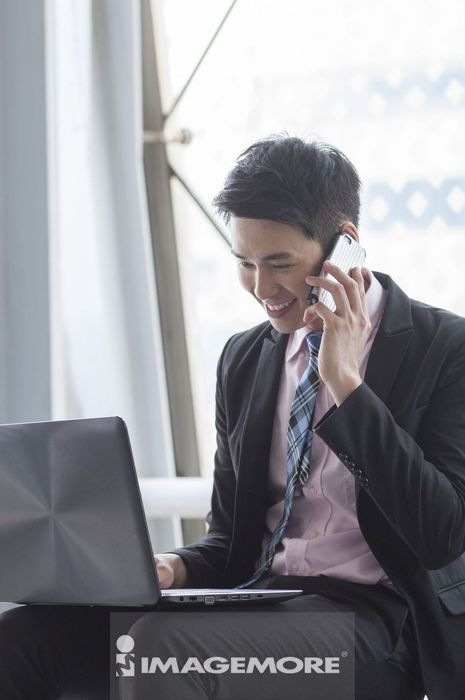phone: (305, 237, 366, 321)
talk: (228, 228, 371, 397)
